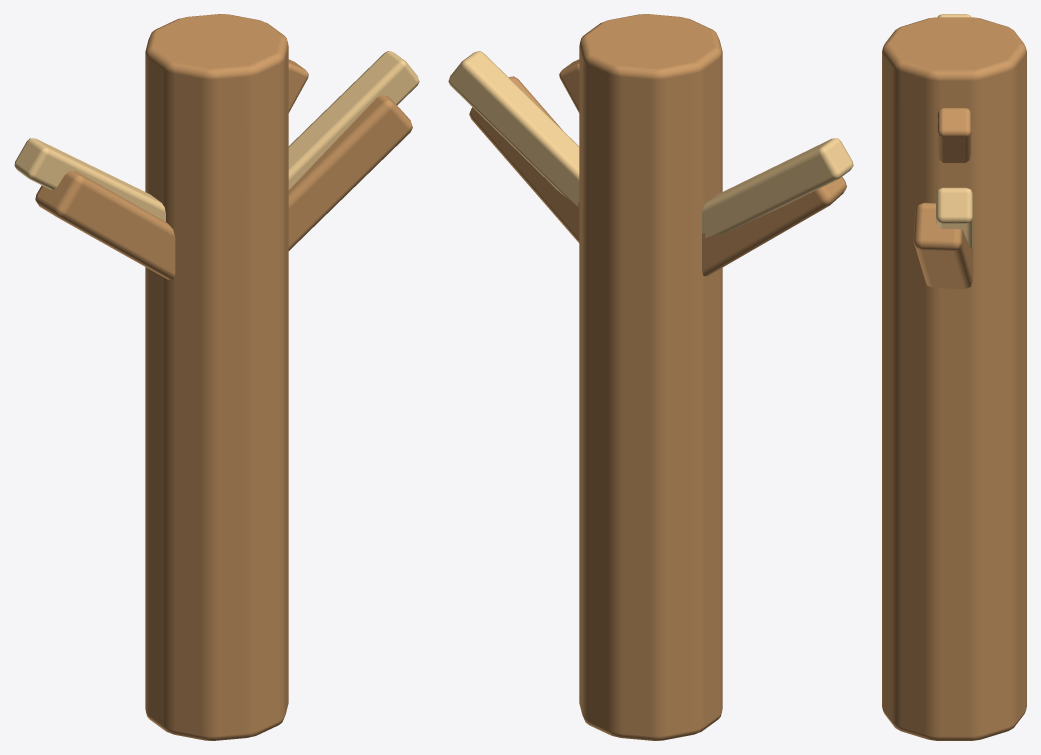
The model's file is Tree_Bare.fbx.
3 views of the same model, side by side, from view 1: azimuth 30°, elevation 25°; view 2: azimuth 150°, elevation 25°; view 3: azimuth 270°, elevation 25° (orthographic).
Visible parts, largest first — view 1: Warm sculpted trunk.002, Branch.005, Branch.004, Bare fork.001, Bare fork, Top snapped branch; view 2: Warm sculpted trunk.002, Bare fork.001, Bare fork, Branch.004, Branch.005, Top snapped branch; view 3: Warm sculpted trunk.002, Branch.005, Top snapped branch, Bare fork.001.
Boxes of the visible parts, <box> form: Warm sculpted trunk.002: <box>145,14,288,740</box>; Branch.005: <box>288,94,412,250</box>; Branch.004: <box>35,171,175,279</box>; Bare fork.001: <box>288,51,419,189</box>; Bare fork: <box>14,138,165,221</box>; Top snapped branch: <box>288,59,308,112</box>; Warm sculpted trunk.002: <box>579,14,722,740</box>; Bare fork.001: <box>448,51,579,206</box>; Bare fork: <box>702,138,853,237</box>; Branch.004: <box>702,177,846,276</box>; Branch.005: <box>469,76,579,242</box>; Top snapped branch: <box>559,59,579,112</box>; Warm sculpted trunk.002: <box>882,17,1026,740</box>; Branch.005: <box>913,202,973,289</box>; Top snapped branch: <box>937,108,971,162</box>; Bare fork.001: <box>936,187,972,248</box>.
Size of the model in its own units: 415 by 680 by 133.
